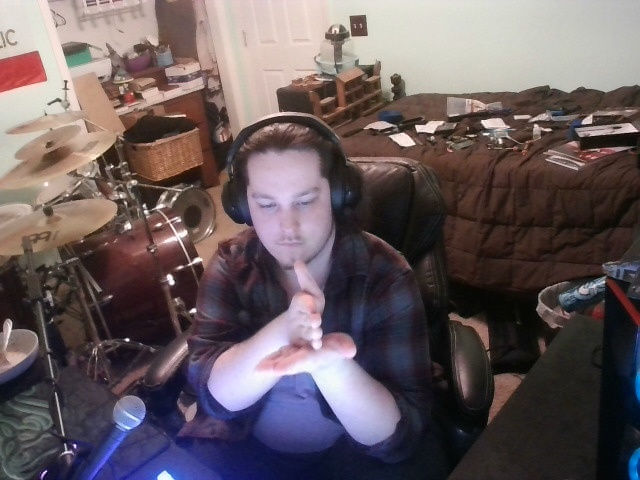stop: (237, 255, 381, 396)
